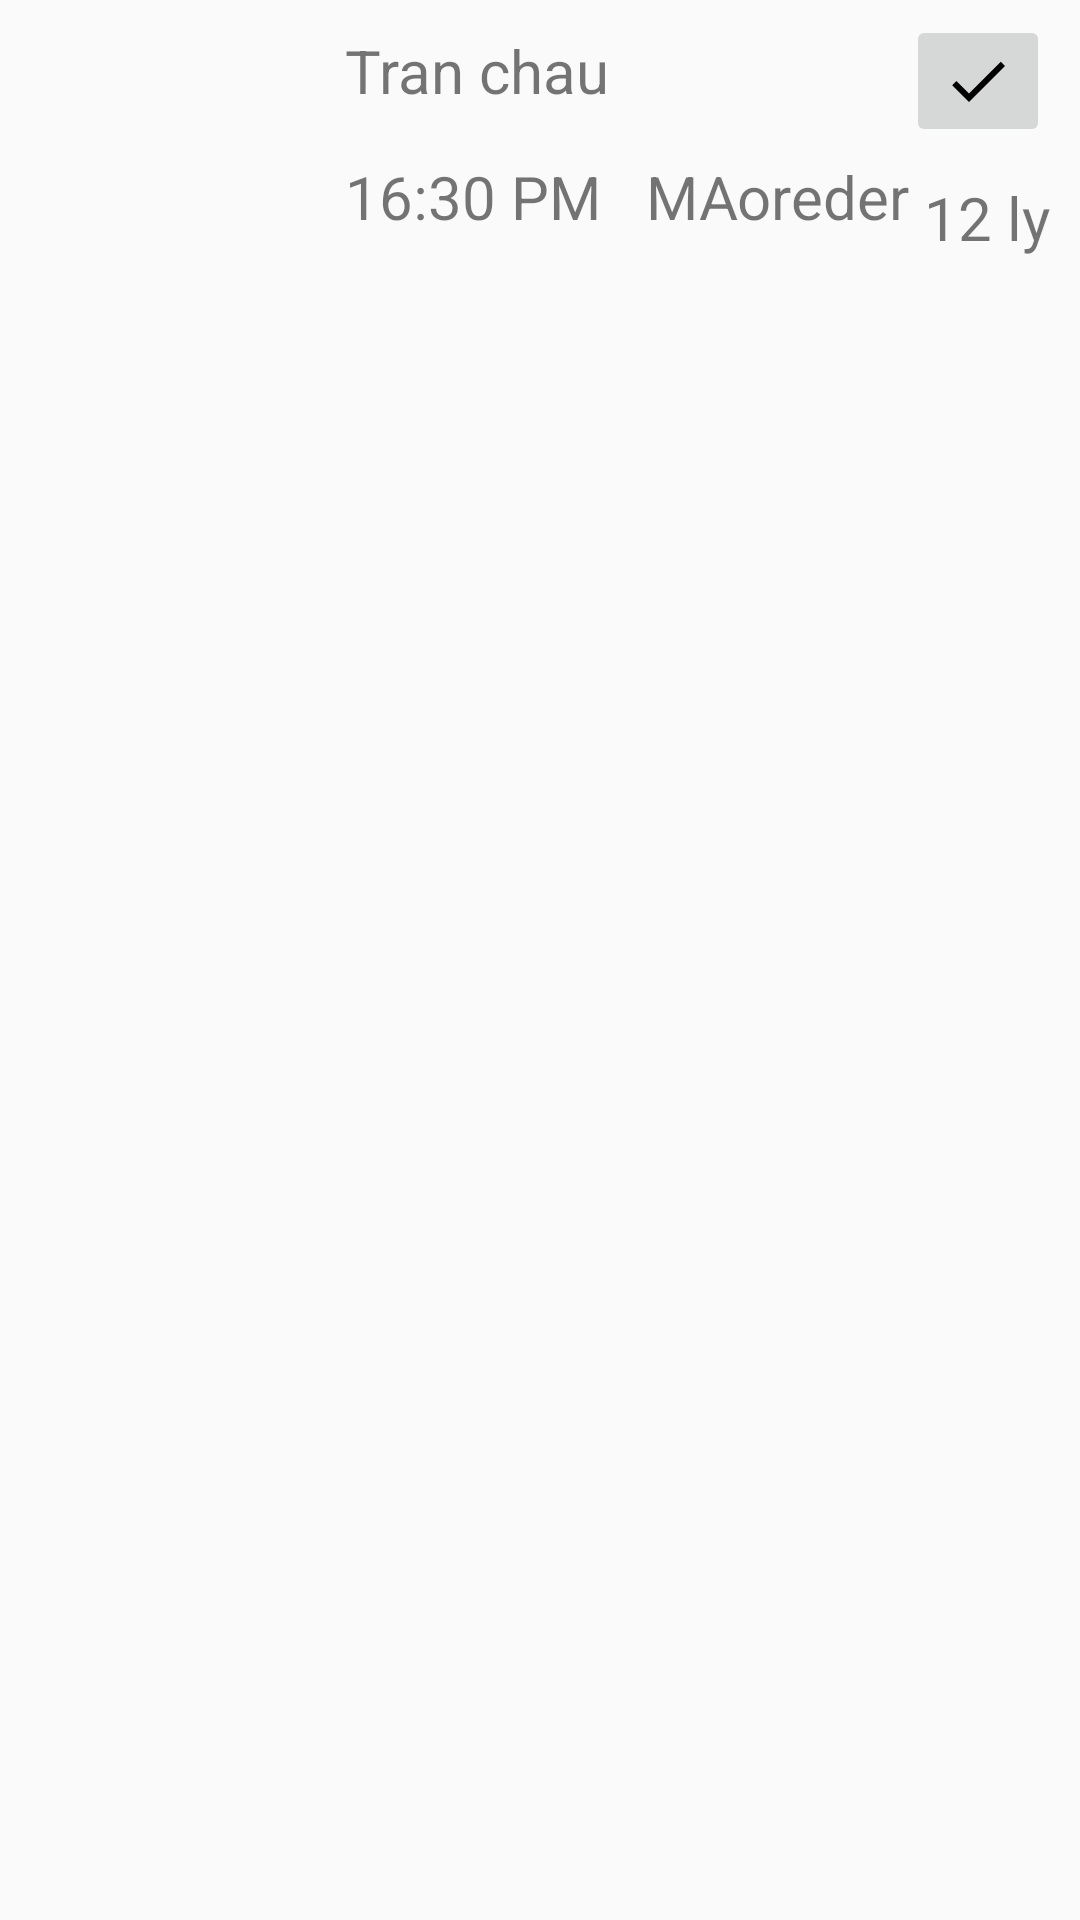

Where icons sit on this 1080 × 1920 app screen, as rect(x1, y1, x2, y2):
done: rect(918, 33, 1038, 129)
